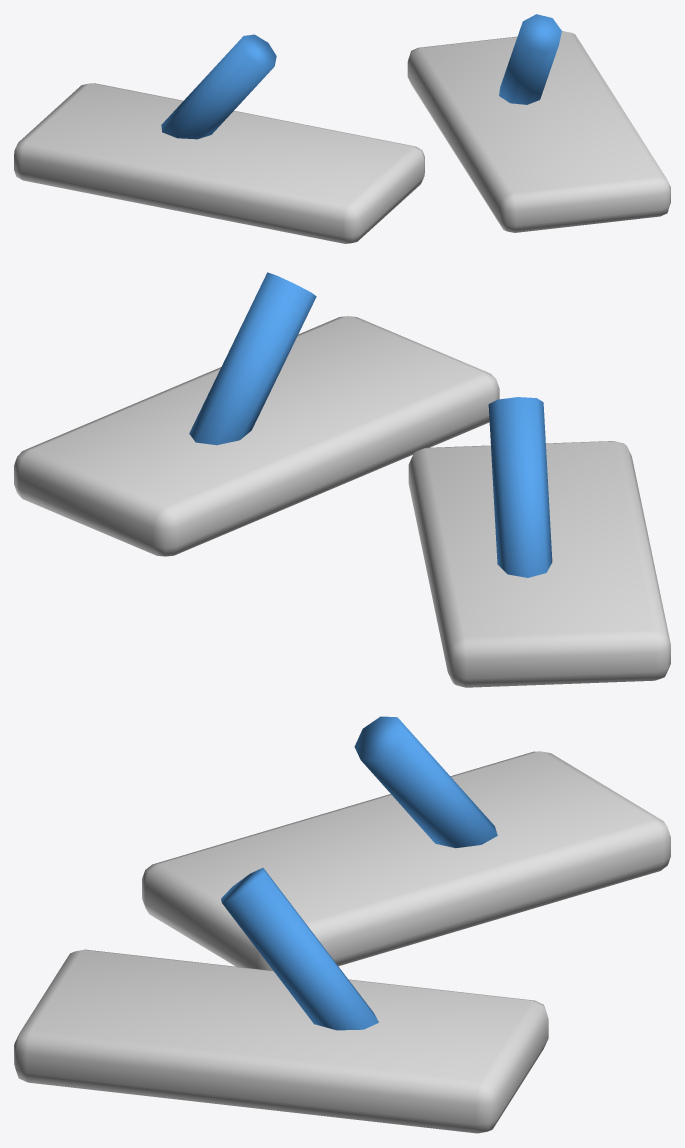
The model's file is Indo_Sandal_Jepit.fbx.
The picture shows the model from 3 angles, top to bottom: view 1: azimuth 30°, elevation 25°; view 2: azimuth 150°, elevation 25°; view 3: azimuth 270°, elevation 25°; orthographic projection. The views are drawn at different scales.
Visible parts, largest first — view 1: Indo_Sandal_Jepit; view 2: Indo_Sandal_Jepit; view 3: Indo_Sandal_Jepit.
Part boxes in pixels (x1,y1,x2,y2): Indo_Sandal_Jepit: [14, 14, 670, 243]; Indo_Sandal_Jepit: [14, 272, 670, 687]; Indo_Sandal_Jepit: [14, 716, 670, 1133].
Bounding box in the file's own units: 45.59 × 13 × 36.73.
